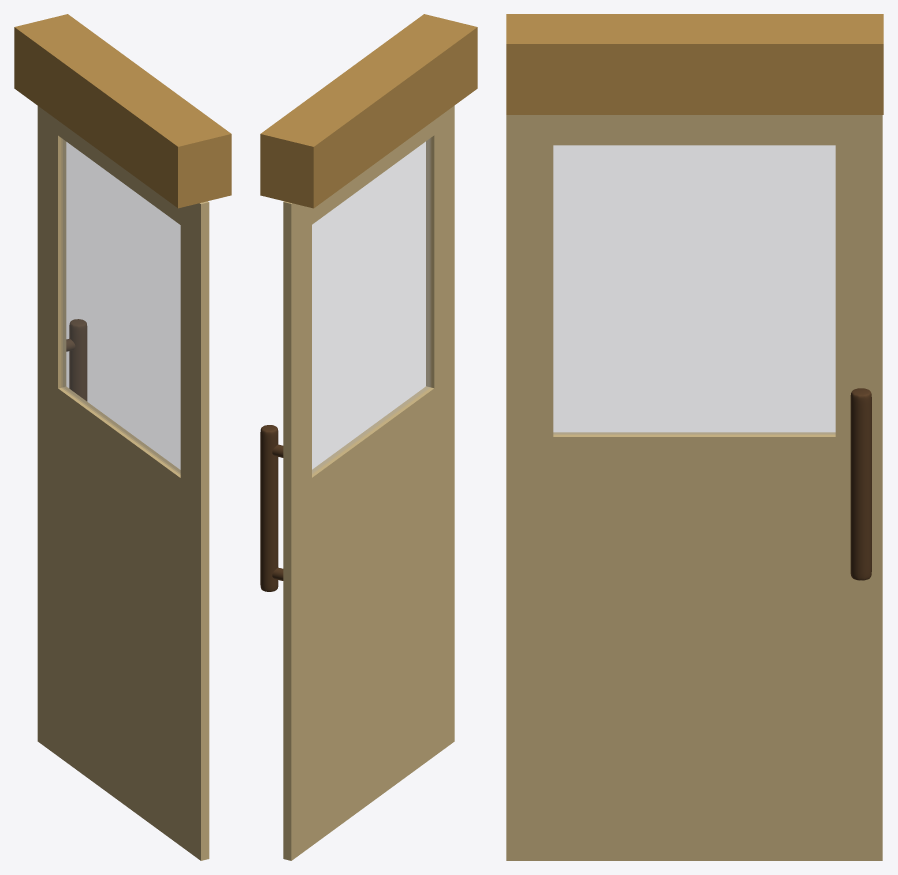
The picture shows the model from 3 angles, left to right: view 1: azimuth 30°, elevation 25°; view 2: azimuth 150°, elevation 25°; view 3: azimuth 270°, elevation 25°; orthographic projection. The views are drawn at different scales.
Visible parts, largest first — view 1: 扉01, 窓01, 上の窓枠, 取手; view 2: 扉01, 窓01, 上の窓枠, 取手; view 3: 扉01, 窓01, 上の窓枠, 取手.
Boxes of the visible parts, bbox=[...] form: 扉01: bbox=[37, 106, 209, 860]; 窓01: bbox=[61, 139, 180, 473]; 上の窓枠: bbox=[14, 14, 231, 208]; 取手: bbox=[69, 319, 87, 400]; 扉01: bbox=[283, 105, 454, 860]; 窓01: bbox=[312, 138, 430, 473]; 上の窓枠: bbox=[260, 14, 477, 208]; 取手: bbox=[260, 425, 278, 591]; 扉01: bbox=[506, 115, 882, 860]; 窓01: bbox=[553, 145, 835, 434]; 上の窓枠: bbox=[506, 14, 883, 114]; 取手: bbox=[850, 388, 871, 580].
Bounding box in the file's own units: 0.5046 × 5.6 × 2.31.
